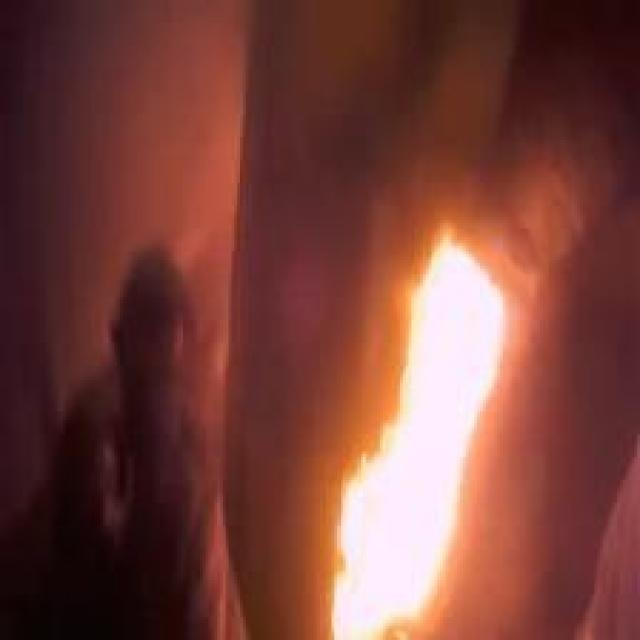fire: (339, 236, 490, 633)
